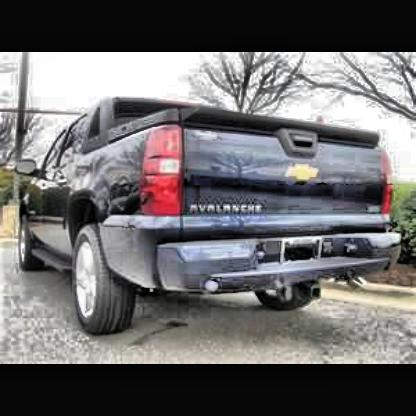Chevrolet Avalanche Crew Cab 2012: (16, 95, 407, 341)
